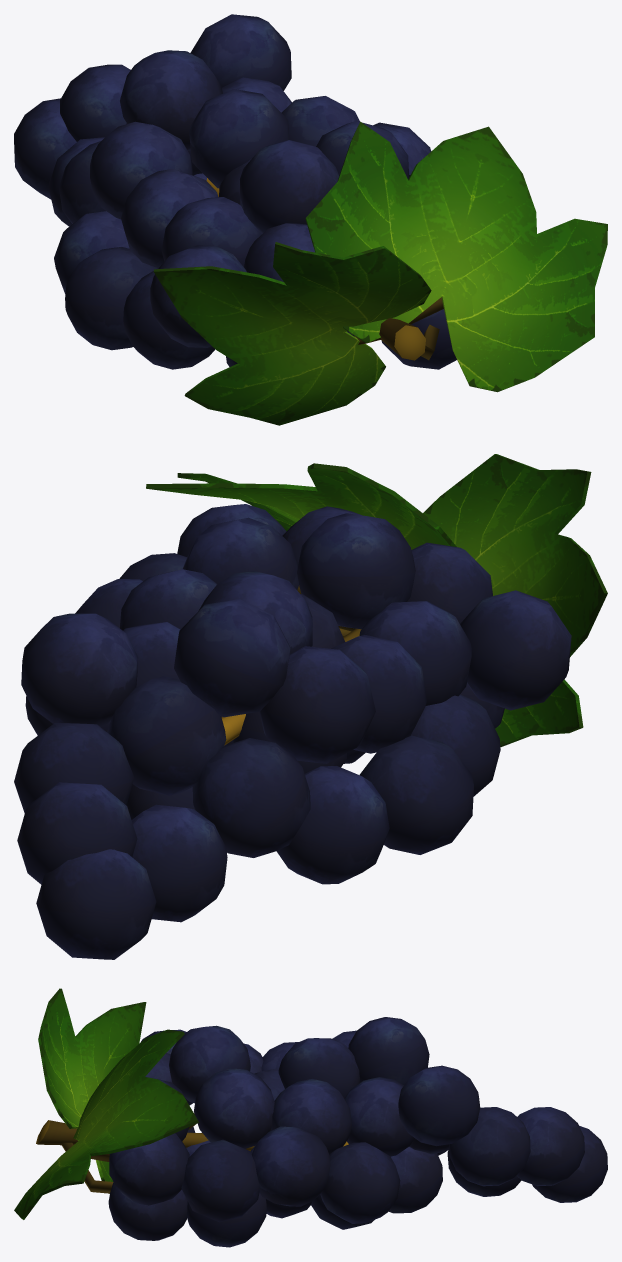
The model's file is Grapes_Blue.fbx.
The picture shows the model from 3 angles, top to bottom: view 1: azimuth 30°, elevation 25°; view 2: azimuth 150°, elevation 25°; view 3: azimuth 270°, elevation 25°; orthographic projection. The views are drawn at different scales.
Visible parts, largest first — view 1: Grapes_Blue; view 2: Grapes_Blue; view 3: Grapes_Blue.
Boxes of the visible parts, x1,y1,x2,y2 form: Grapes_Blue: [14, 14, 607, 425]; Grapes_Blue: [14, 454, 607, 959]; Grapes_Blue: [14, 988, 607, 1247].
Bounding box in the file's own units: 46.73 × 26.88 × 73.42.
